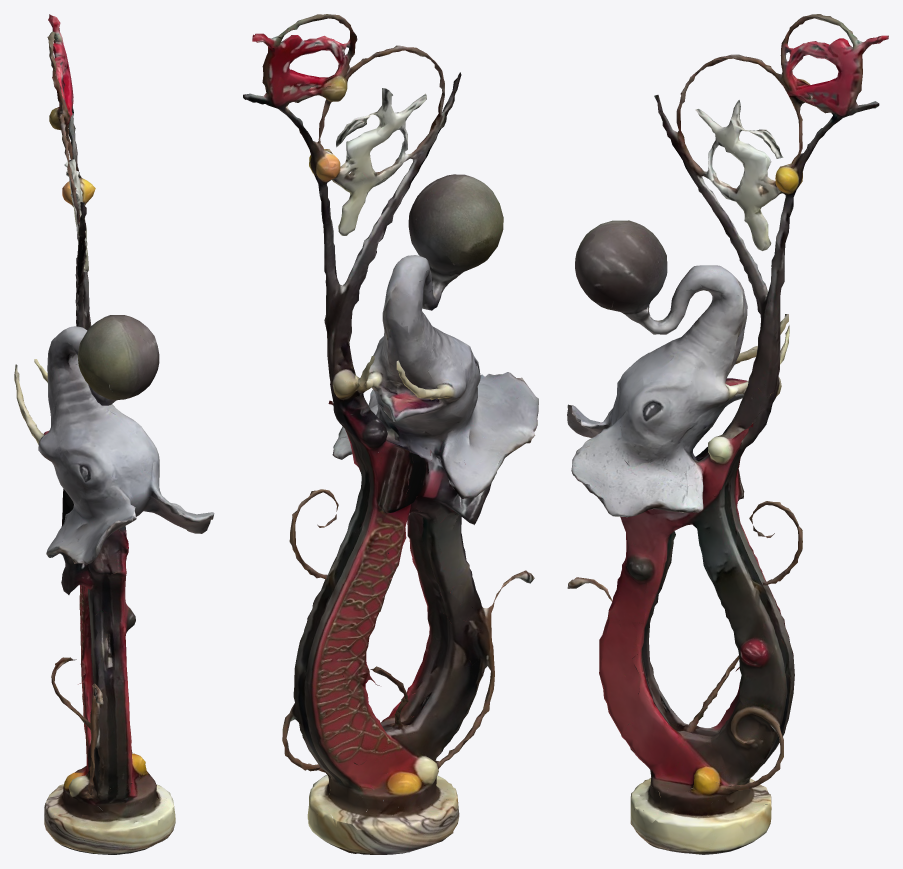
Rendered from circus.glb.
3 renders of one model, left to right at view 1: azimuth 30°, elevation 25°; view 2: azimuth 150°, elevation 25°; view 3: azimuth 270°, elevation 25°, orthographic. The views are drawn at different scales.
Visible parts, largest first — view 1: mesh; view 2: mesh; view 3: mesh.
Part boxes in pixels (x1,y1,x2,y2): mesh: (14, 14, 214, 854); mesh: (243, 14, 538, 854); mesh: (567, 14, 888, 854).
Size of the model in its own units: 0.1802 by 0.9386 by 0.3358.
1 material, 1 textured.
